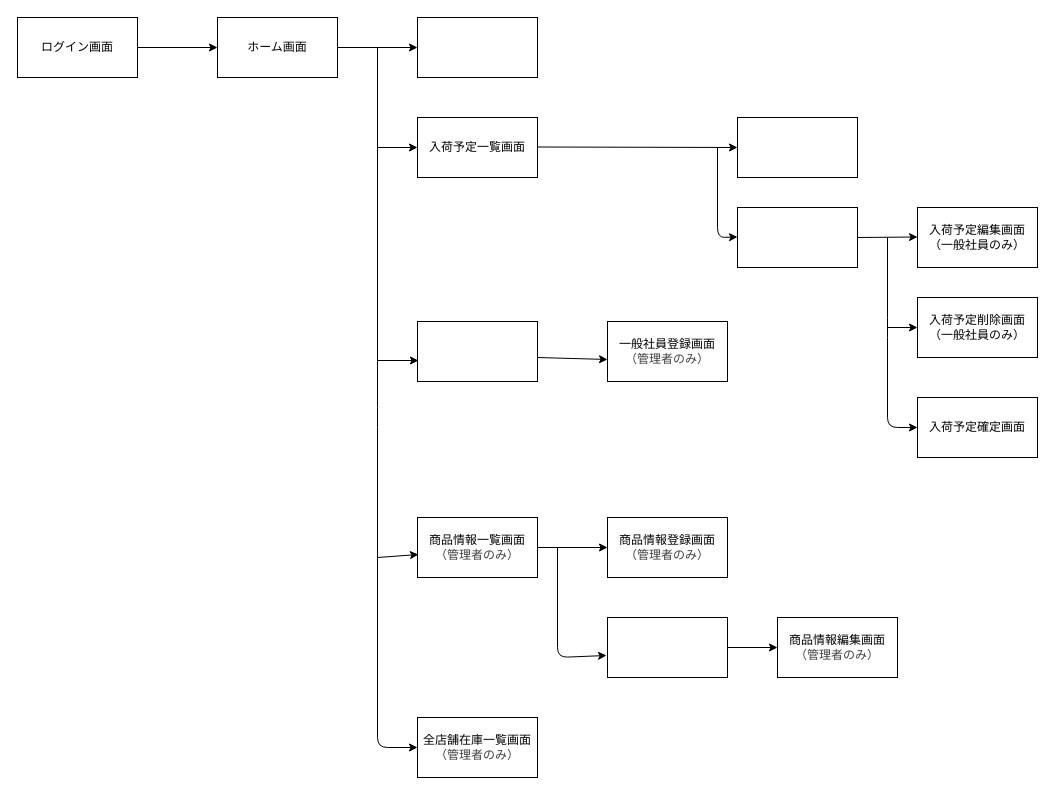
Image size: 1055x795. Some labels were removed from this diagram. Each missing label, with the centre of its shape:
一般社員一覧画面 （管理者のみ）: (477,351)
入荷予定登録画面: (797,147)
入荷予定詳細画面: (797,237)
商品情報詳細画面 （管理者のみ）: (667,647)
在庫一覧画面: (477,47)
